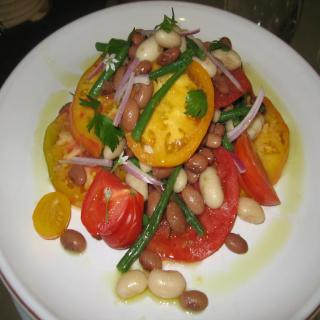tomato: (147, 140, 240, 259), (123, 57, 218, 173), (44, 100, 106, 208), (68, 54, 122, 156), (81, 167, 144, 248), (238, 128, 282, 205)
